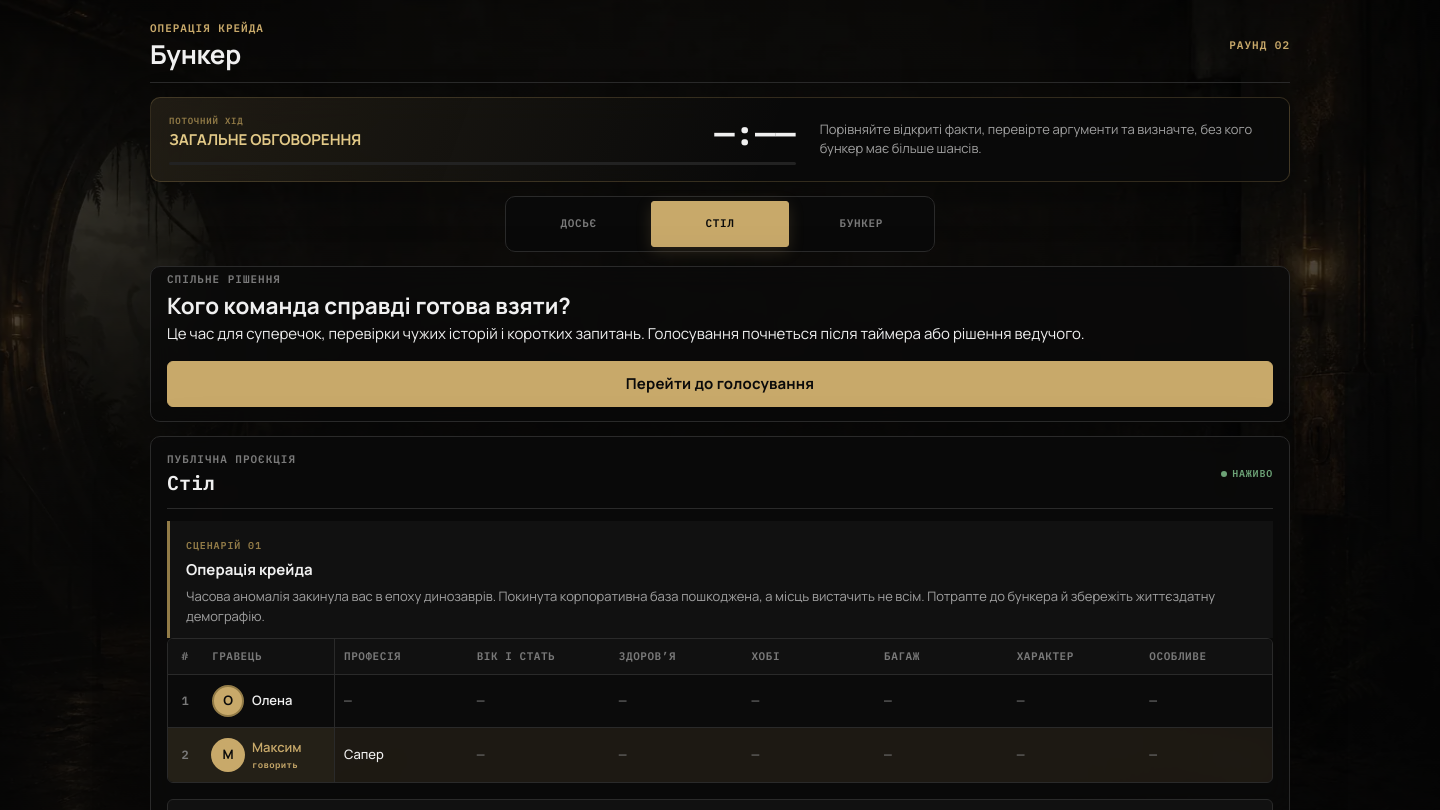
Test case: App interactions › keeps the discussion action reachable while re-reading the dossier
Check: the button "Перейти до голосування" is shown, box [167,361,1273,407]
Click the button "Досьє" at (579,224), box [510,201,647,247]
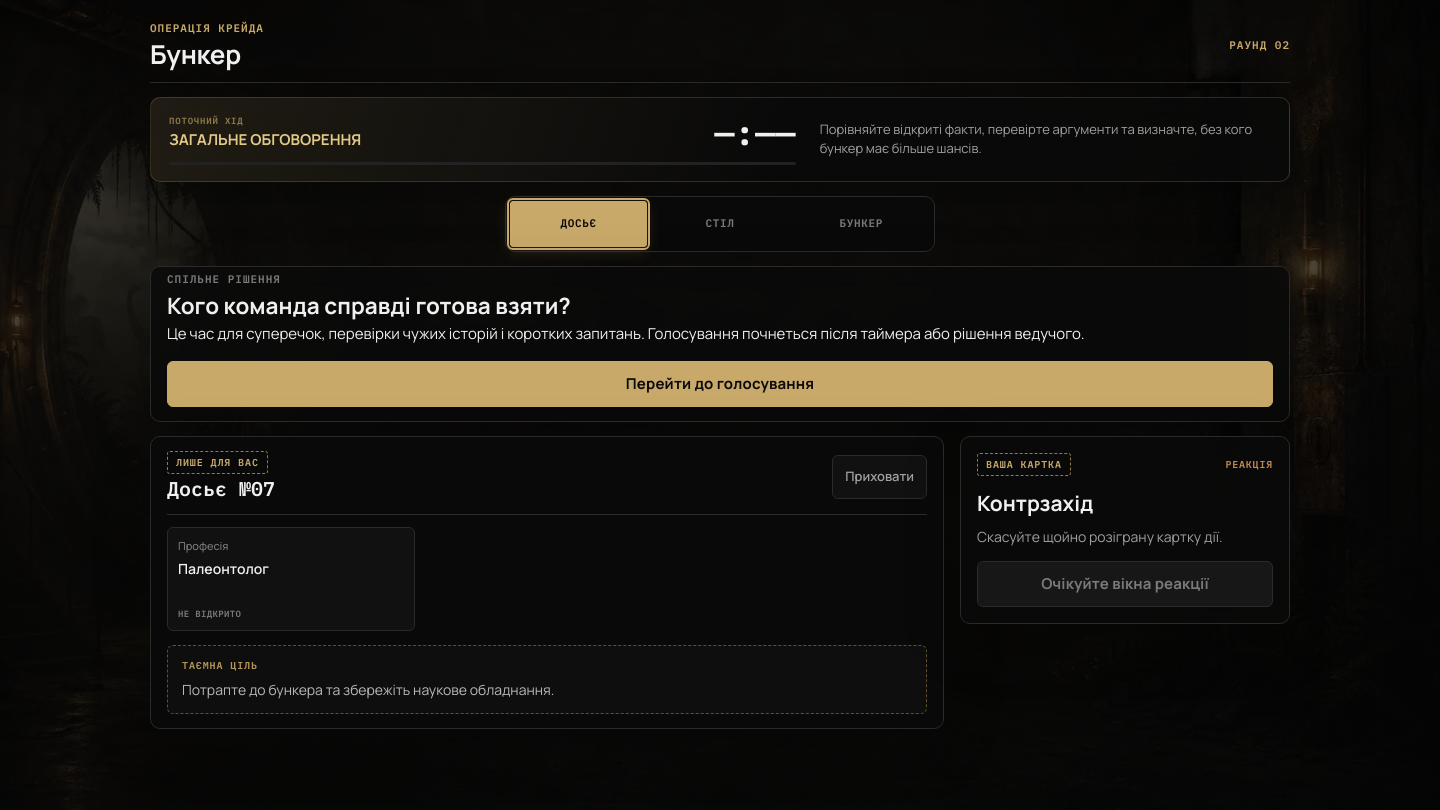
Check: the button "Перейти до голосування" is shown, box [167,361,1273,407]
Check: the text "Потрапте до бункера та збережіть наукове обладнання." is shown, box [182,680,554,699]
